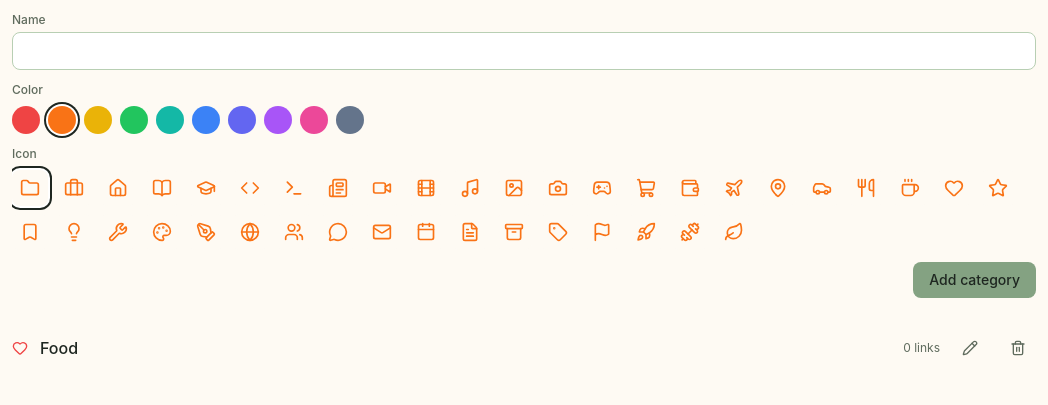
Test: CategoryManager › shows a rejected category inline and keeps the input
This screenshot has width=1048, height=405.
Type "food" into the field labelled "Name" at (524, 51), box [12,32,1036,70]
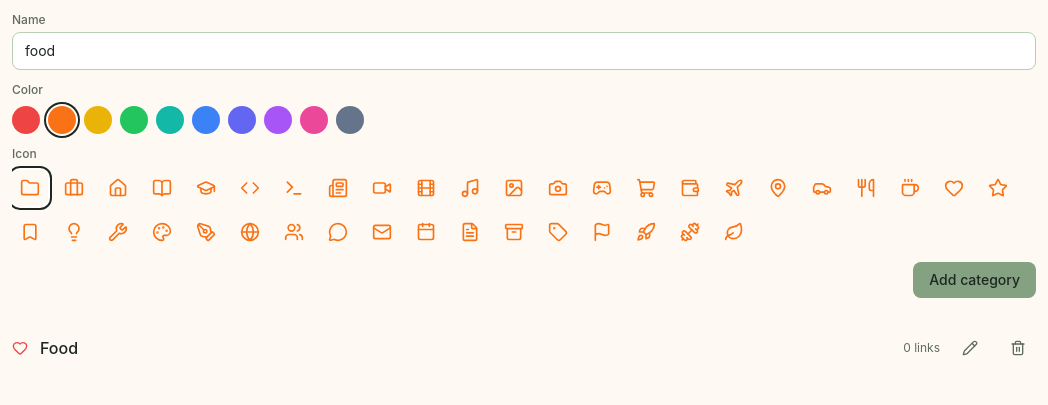
Click the button "Add category" at (975, 280), box [913,262,1036,298]
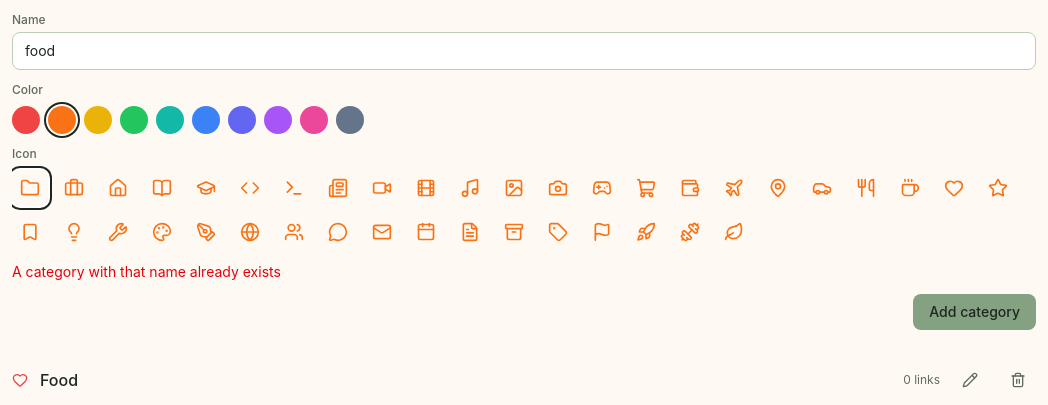
Now the message reads "A category with that name already exists", box [12,263,281,280]
